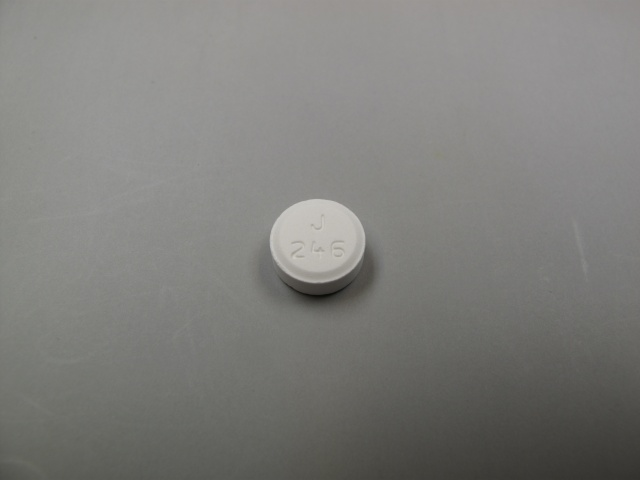2: (288, 237, 306, 263)
4: (309, 238, 327, 263)
6: (328, 237, 350, 263)
J: (306, 211, 331, 236)
